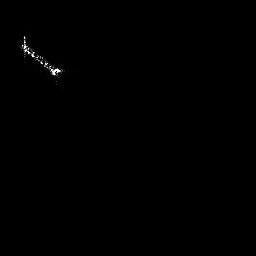ship: (20, 34, 64, 79)
